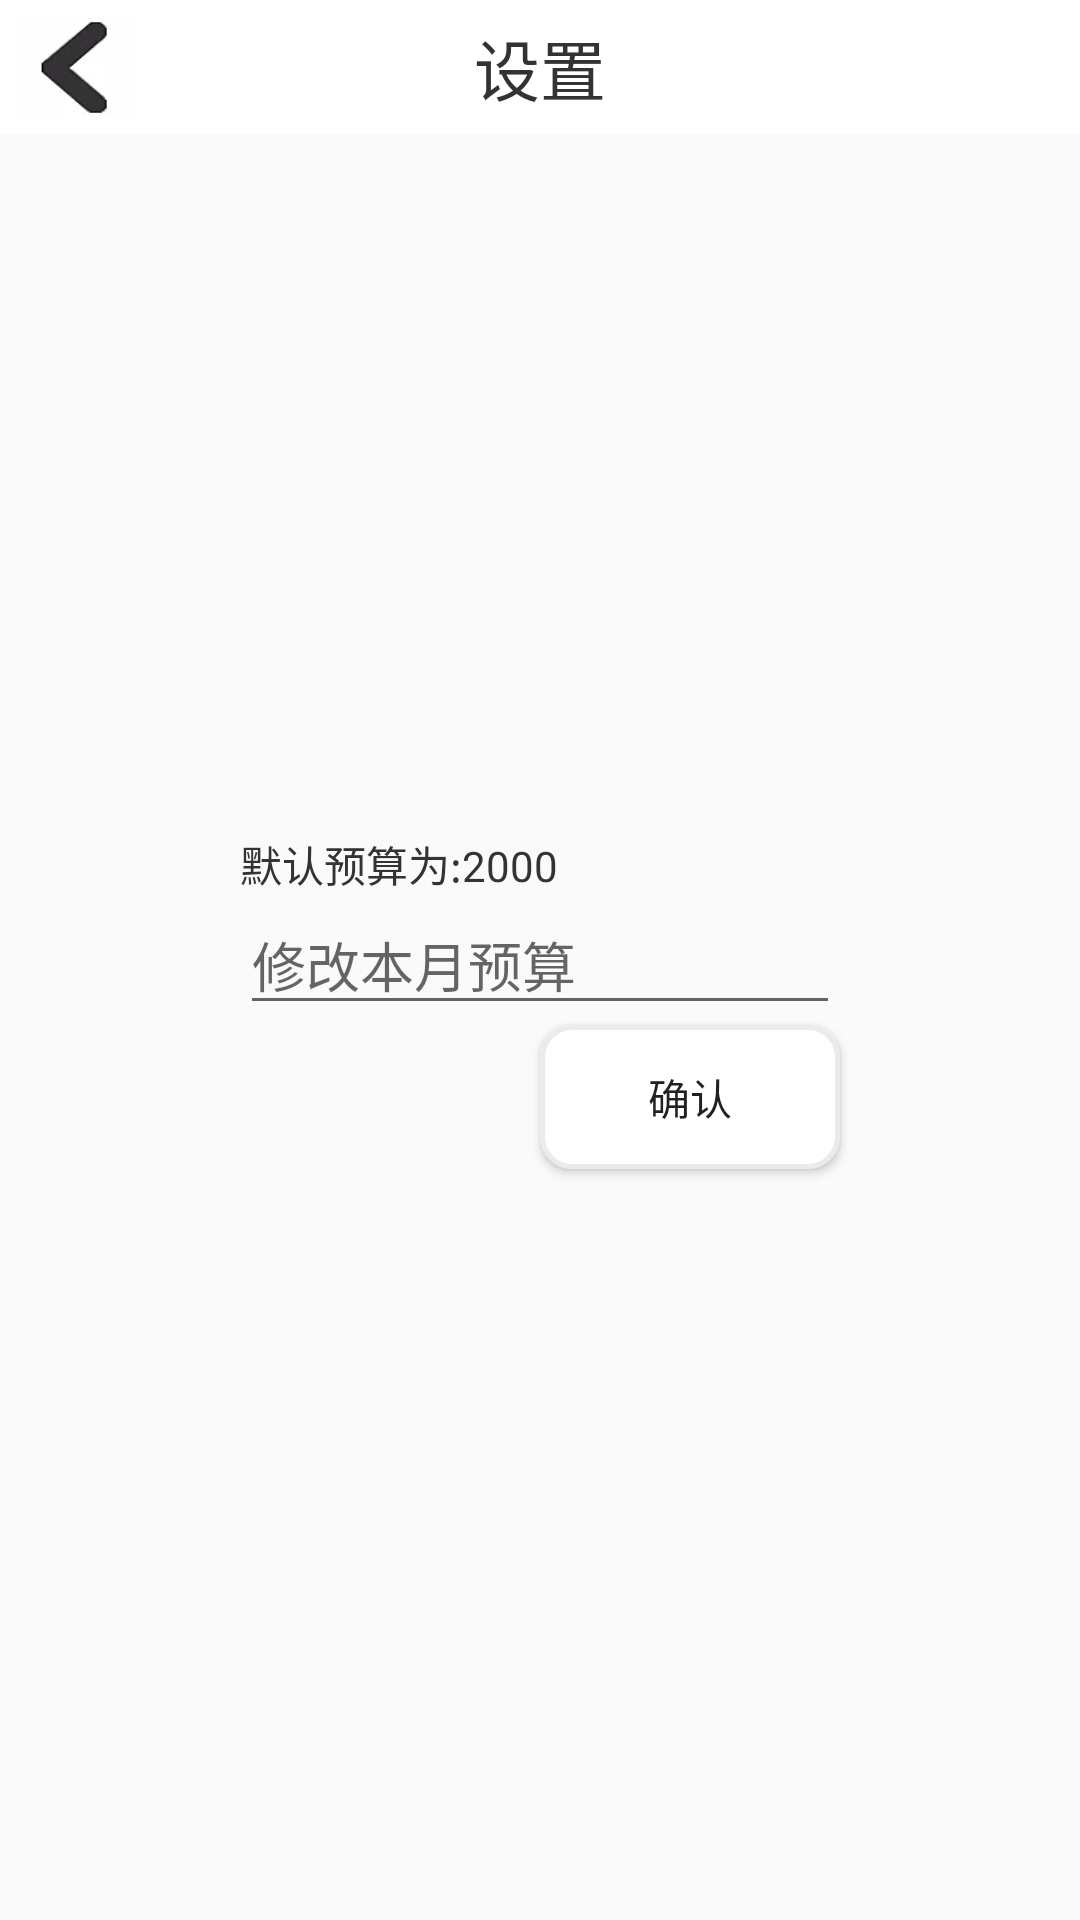

Icon click points for this 1080x1920 phone screenshot, format (x=x, y=y):
back: (x=74, y=67)
